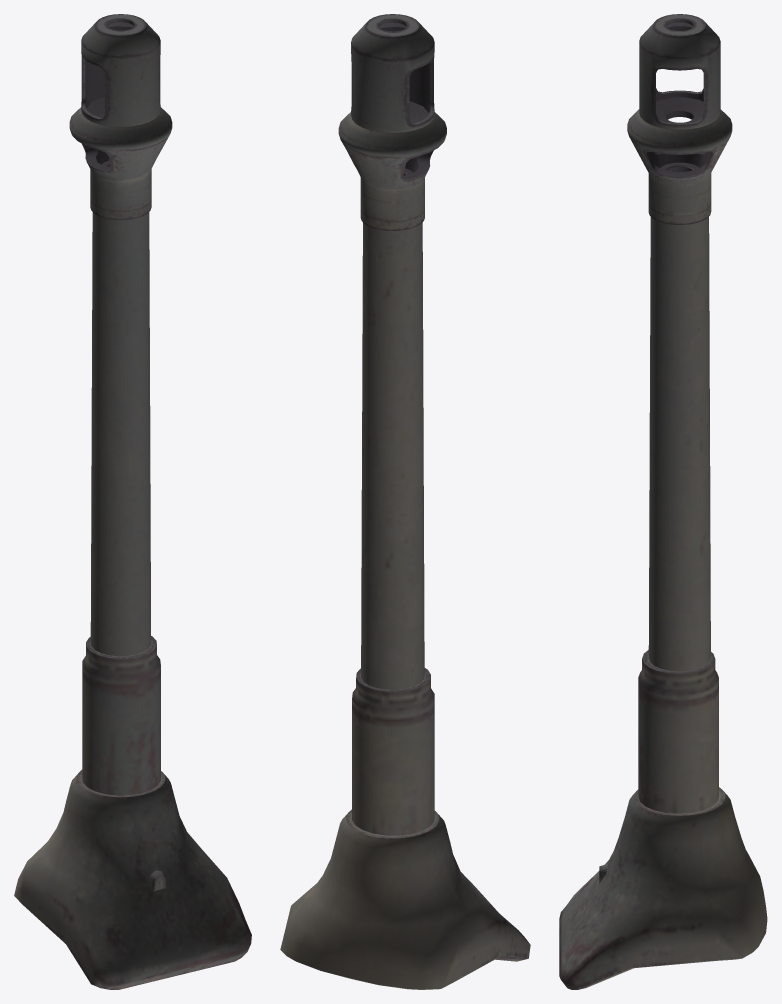
Rendered from Gun_02.glb.
3 views of the same model, side by side, from view 1: azimuth 30°, elevation 25°; view 2: azimuth 150°, elevation 25°; view 3: azimuth 270°, elevation 25° (orthographic). The views are drawn at different scales.
Parts seen in each view (by area): view 1: set_0_group_0; view 2: set_0_group_0; view 3: set_0_group_0.
Boxes of the visible parts, x1,y1,x2,y2 form: set_0_group_0: (14,14,251,989); set_0_group_0: (280,14,530,989); set_0_group_0: (559,14,767,989).
Bounding box in the file's own units: 0.7237 × 3.96 × 0.8005.
1 material, 1 textured.
